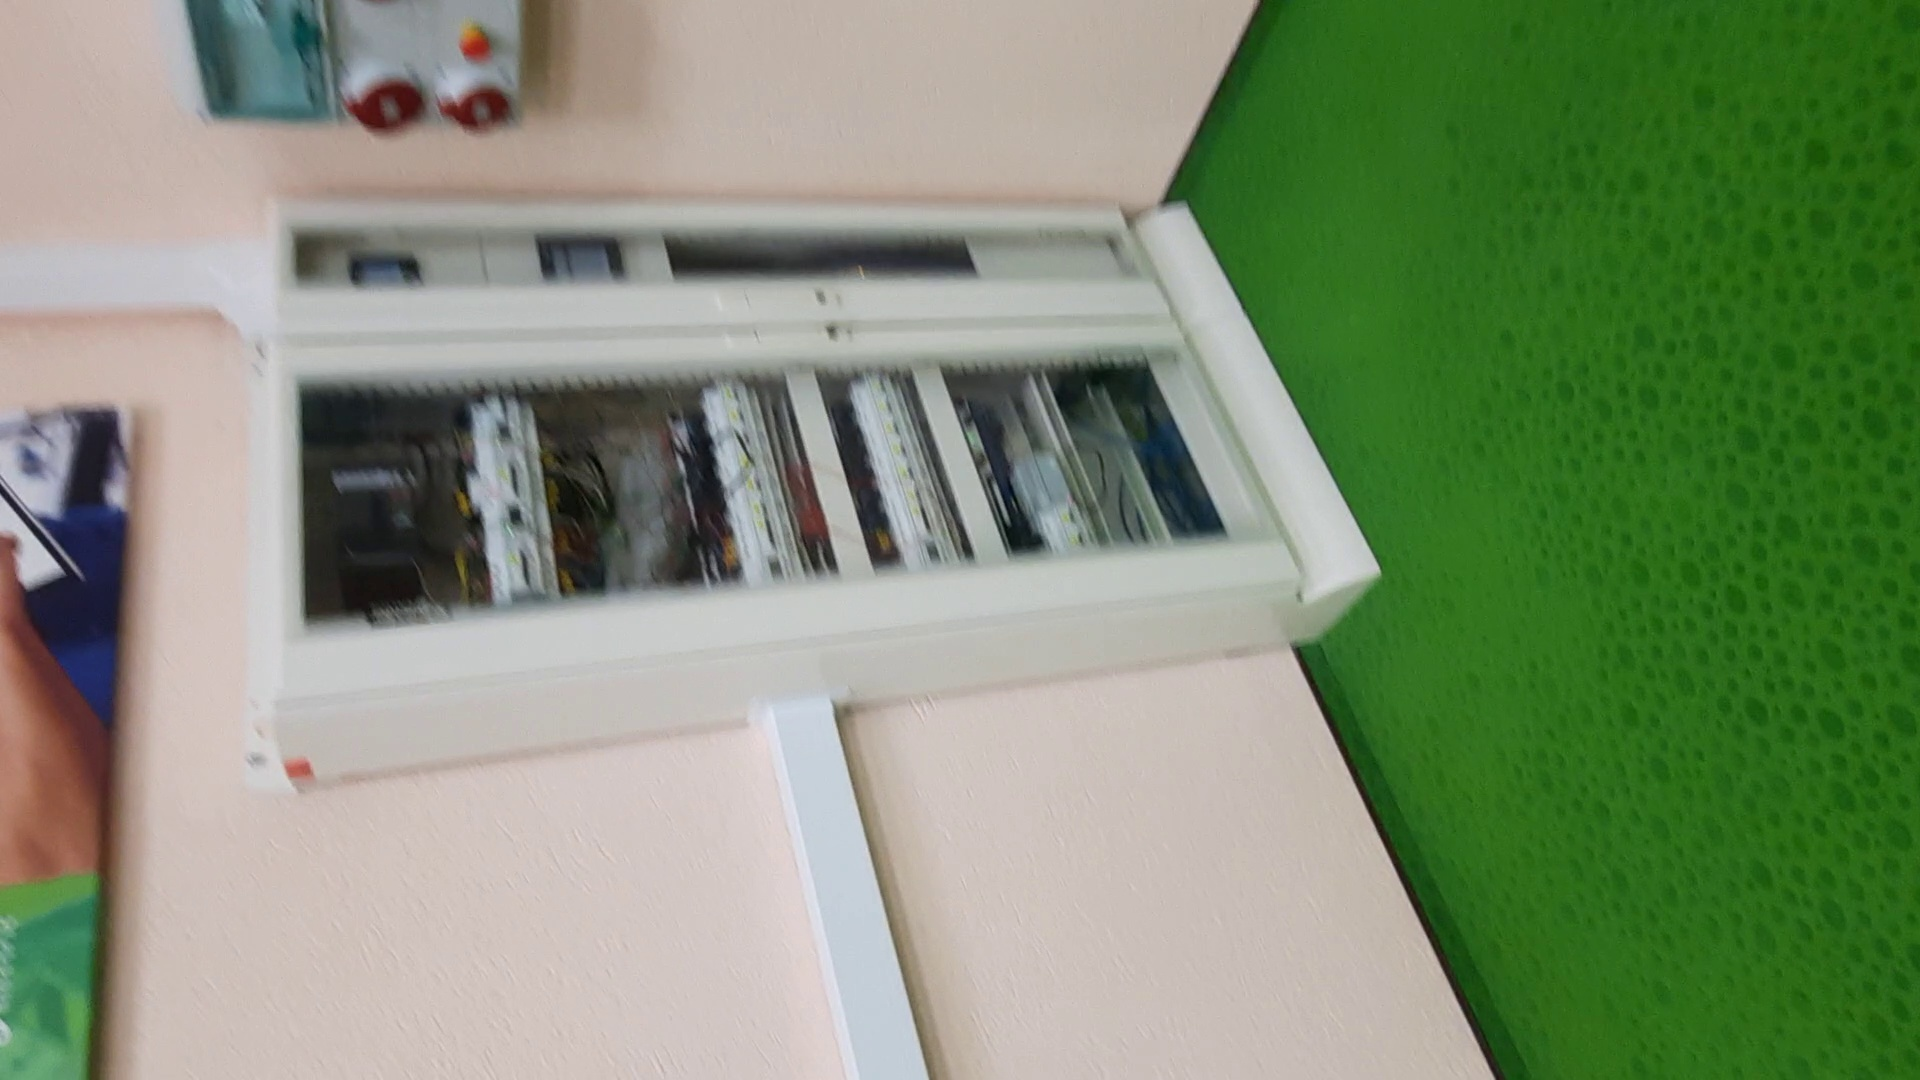stand1: (245, 190, 1385, 758)
